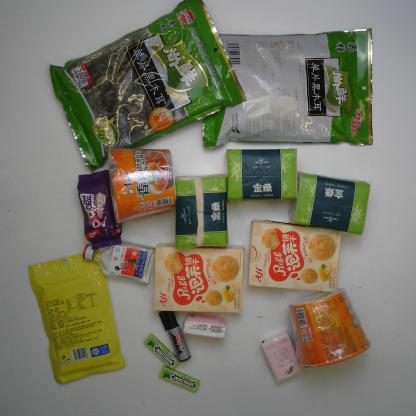Alcohol: (78, 236, 157, 287)
Dessert: (247, 218, 346, 293), (152, 240, 245, 316), (77, 167, 125, 250)
Dried Food: (47, 1, 248, 172), (200, 26, 375, 150)
Dried Fruit: (25, 247, 128, 386)
Gum: (142, 332, 180, 372), (157, 365, 200, 393)
Instant Noodles: (287, 286, 372, 370), (106, 145, 178, 226)
Stationery: (158, 307, 194, 363)
Tissue: (288, 170, 373, 236), (223, 146, 304, 204), (172, 171, 230, 251), (259, 328, 307, 384), (181, 311, 228, 341)
